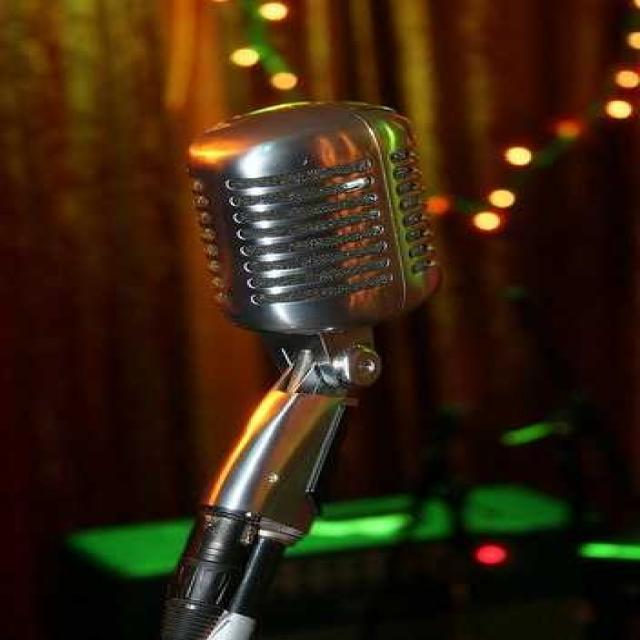microphone: (189, 93, 482, 363)
